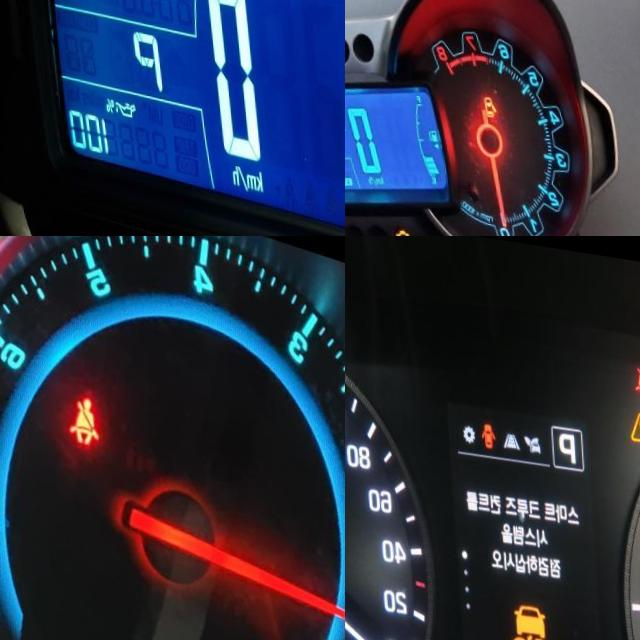Central Warning lamp: (628, 396, 640, 430)
Doors: (479, 413, 495, 443), (481, 83, 495, 106)
